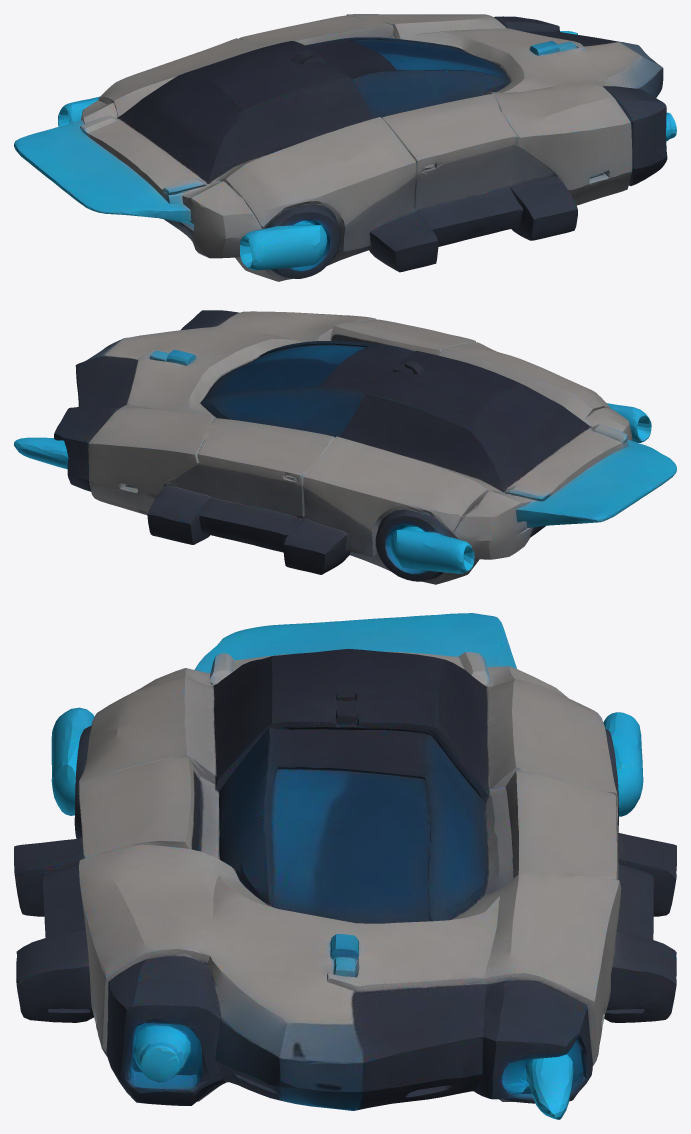
3 views of the same model, one above another, from view 1: azimuth 30°, elevation 25°; view 2: azimuth 150°, elevation 25°; view 3: azimuth 270°, elevation 25° (orthographic). The views are drawn at different scales.
Parts seen in each view (by area): view 1: Mesh; view 2: Mesh; view 3: Mesh.
Boxes of the visible parts, box(x1,y1,x2,y2) form: Mesh: box(14, 14, 676, 281); Mesh: box(14, 310, 676, 584); Mesh: box(14, 613, 676, 1119).
Bounding box in the file's own units: 1.89 × 0.4595 × 1.23.
Materials: 1 (1 with a texture image).
